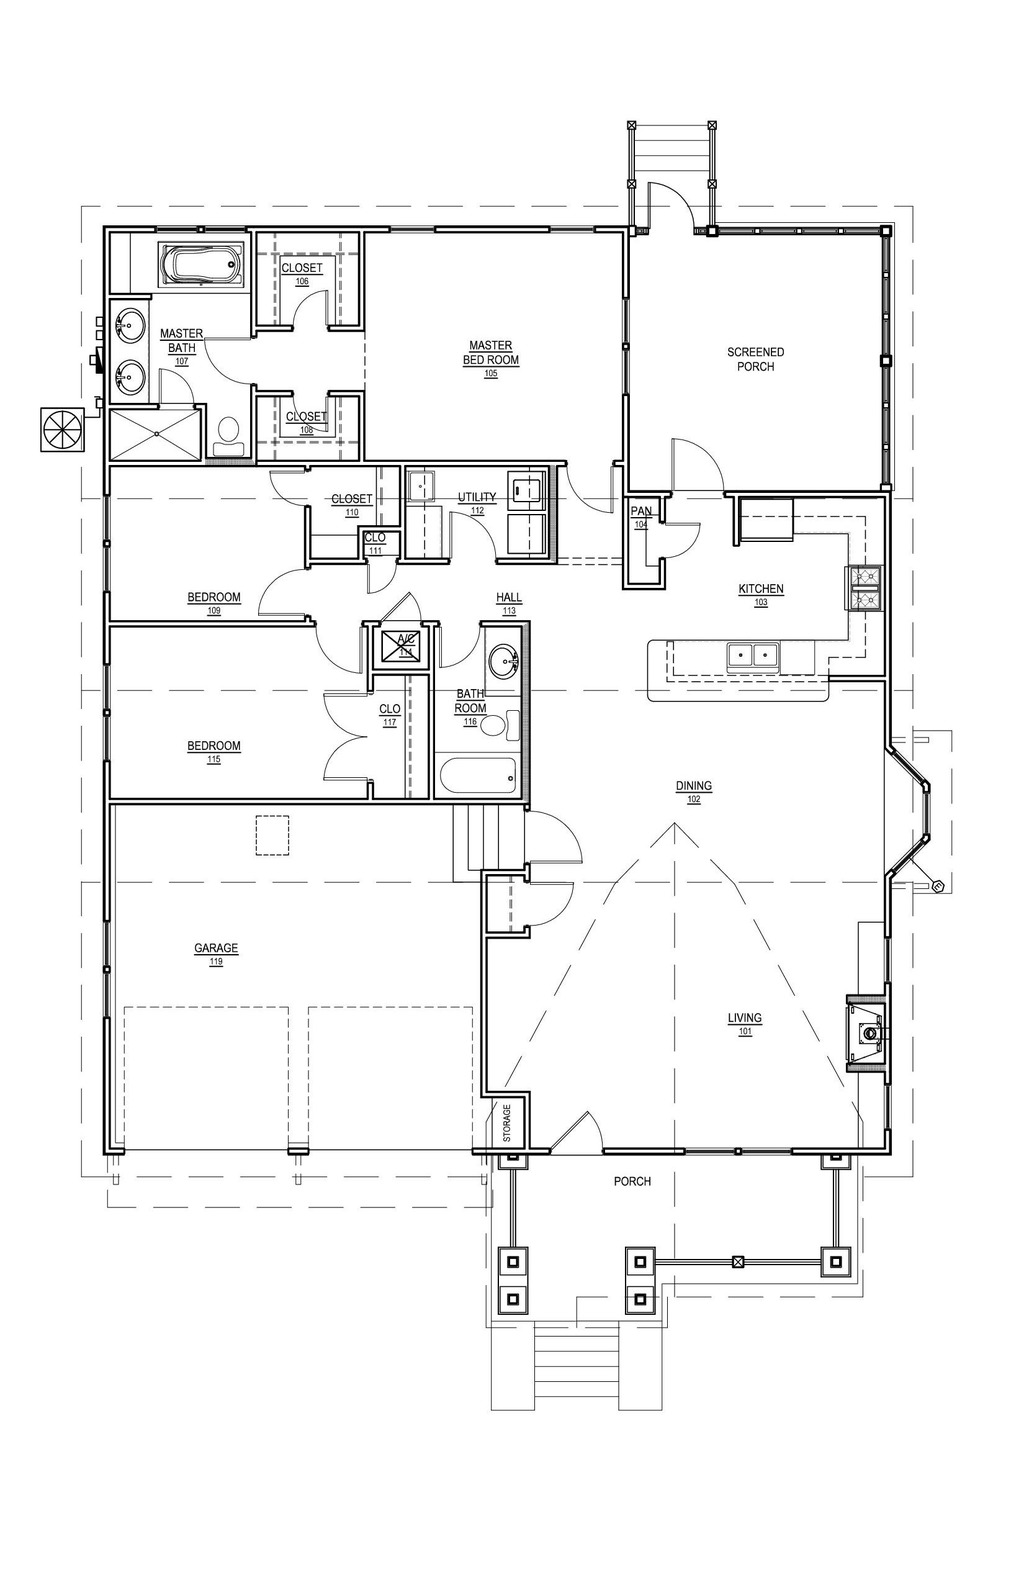door: (654, 408, 766, 501), (324, 682, 385, 801), (527, 1100, 628, 1162), (249, 552, 327, 630), (310, 613, 383, 696), (632, 164, 705, 247), (627, 496, 710, 567), (432, 498, 507, 569), (505, 875, 585, 938), (188, 313, 256, 387), (520, 801, 585, 877), (560, 447, 617, 533), (288, 272, 344, 347), (259, 455, 327, 507), (434, 616, 481, 682)
large_sink: (203, 396, 261, 479), (476, 708, 534, 762)
small_sink: (105, 286, 151, 411), (470, 628, 551, 691)
tub: (432, 750, 554, 816)
twin_sink: (715, 625, 803, 696)
